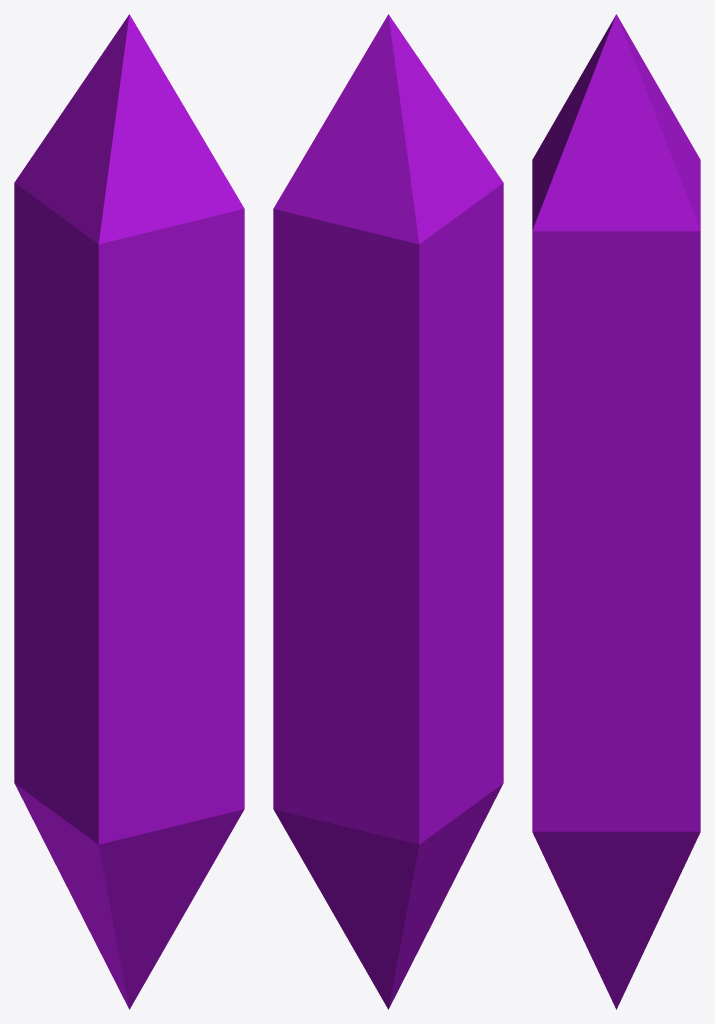
The model's file is SimpleLPCrystal.fbx.
3 views of the same model, side by side, from view 1: azimuth 30°, elevation 25°; view 2: azimuth 150°, elevation 25°; view 3: azimuth 270°, elevation 25° (orthographic).
Parts seen in each view (by area): view 1: Cube; view 2: Cube; view 3: Cube.
Part boxes in pixels (x1,y1,x2,y2): Cube: [14, 14, 244, 1009]; Cube: [273, 14, 503, 1009]; Cube: [532, 14, 700, 1009].
Size of the model in its own units: 200 by 1304 by 200.
